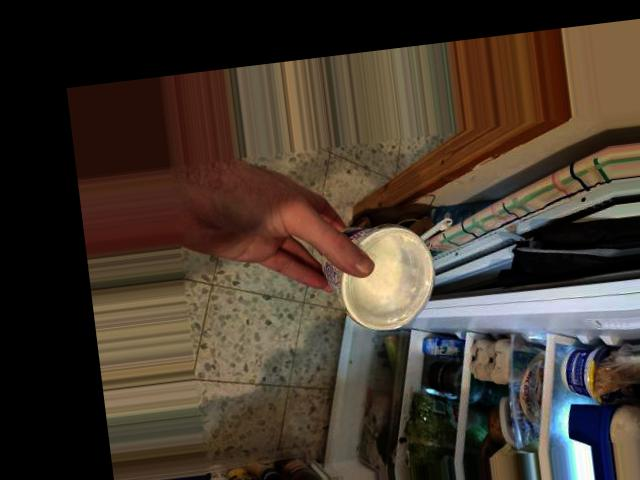cotage: (314, 218, 446, 327)
